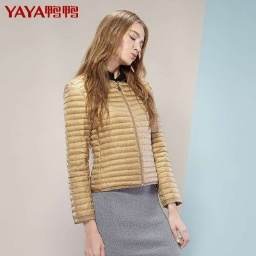face: (79, 7, 157, 112)
